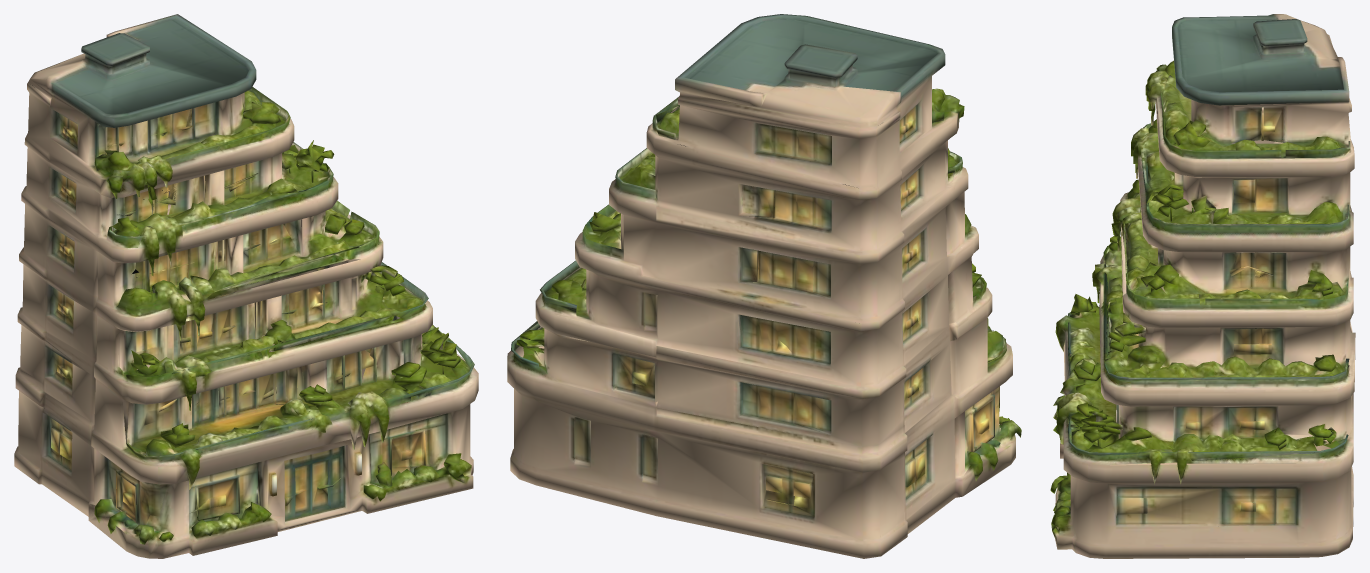
Rendered from terrace_block.glb.
3 views of the same model, side by side, from view 1: azimuth 30°, elevation 25°; view 2: azimuth 150°, elevation 25°; view 3: azimuth 270°, elevation 25° (orthographic). The views are drawn at different scales.
Parts seen in each view (by area): view 1: tripo_node_c245fe47-13e5-4eea-a156-1a9d624c74f5; view 2: tripo_node_c245fe47-13e5-4eea-a156-1a9d624c74f5; view 3: tripo_node_c245fe47-13e5-4eea-a156-1a9d624c74f5.
Boxes of the visible parts, box(x1,y1,x2,y2) form: tripo_node_c245fe47-13e5-4eea-a156-1a9d624c74f5: box(14, 14, 478, 558); tripo_node_c245fe47-13e5-4eea-a156-1a9d624c74f5: box(507, 14, 1021, 558); tripo_node_c245fe47-13e5-4eea-a156-1a9d624c74f5: box(1050, 14, 1355, 558).
Bounding box in the file's own units: 23.15 × 26 × 17.76.
Materials: 1 (1 with a texture image).
